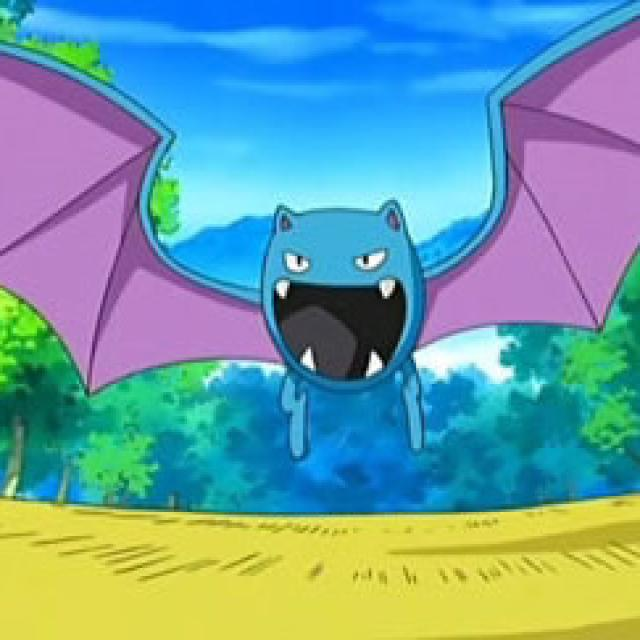Golbat: (124, 125, 564, 446)
